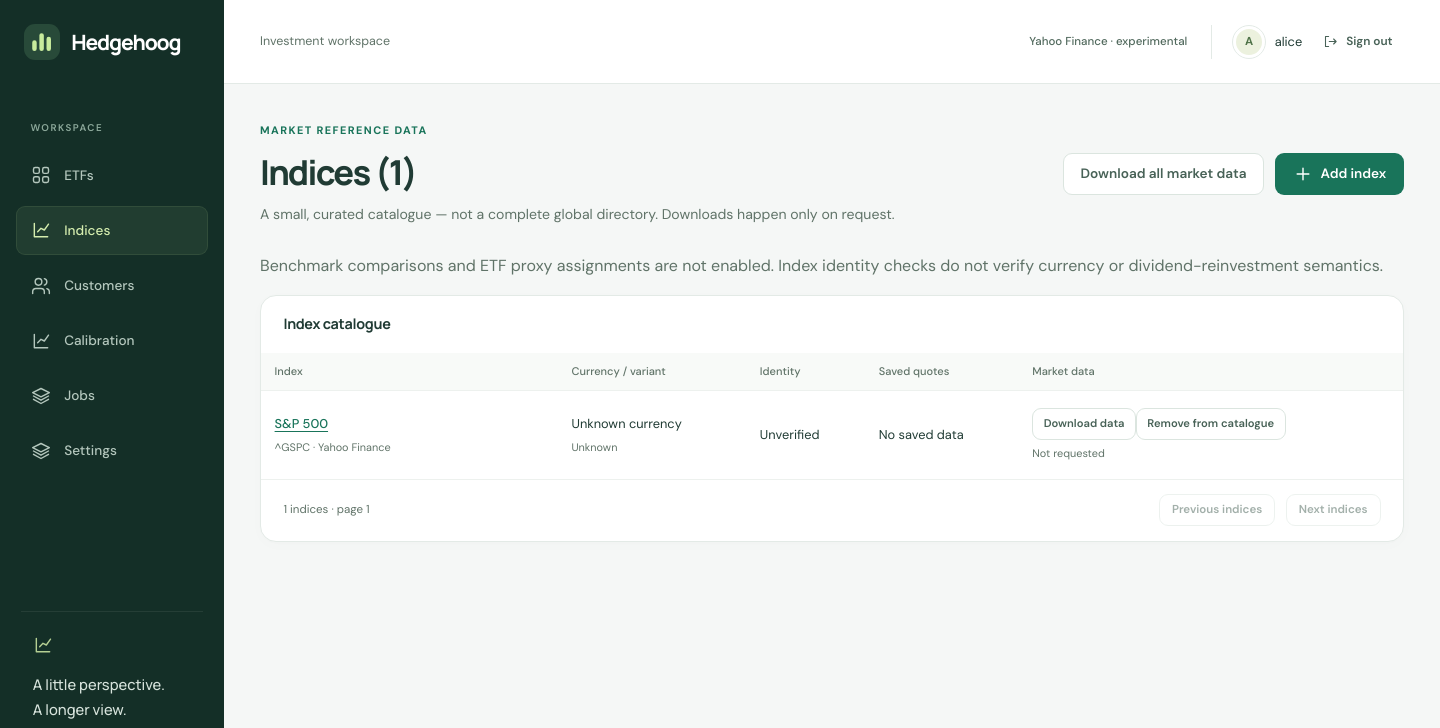
Scenario: ignores stale search responses and clears selection when editing
This screenshot has width=1440, height=728.
Click the button "Add index": {"x": 1339, "y": 174} [1275,153,1404,195]
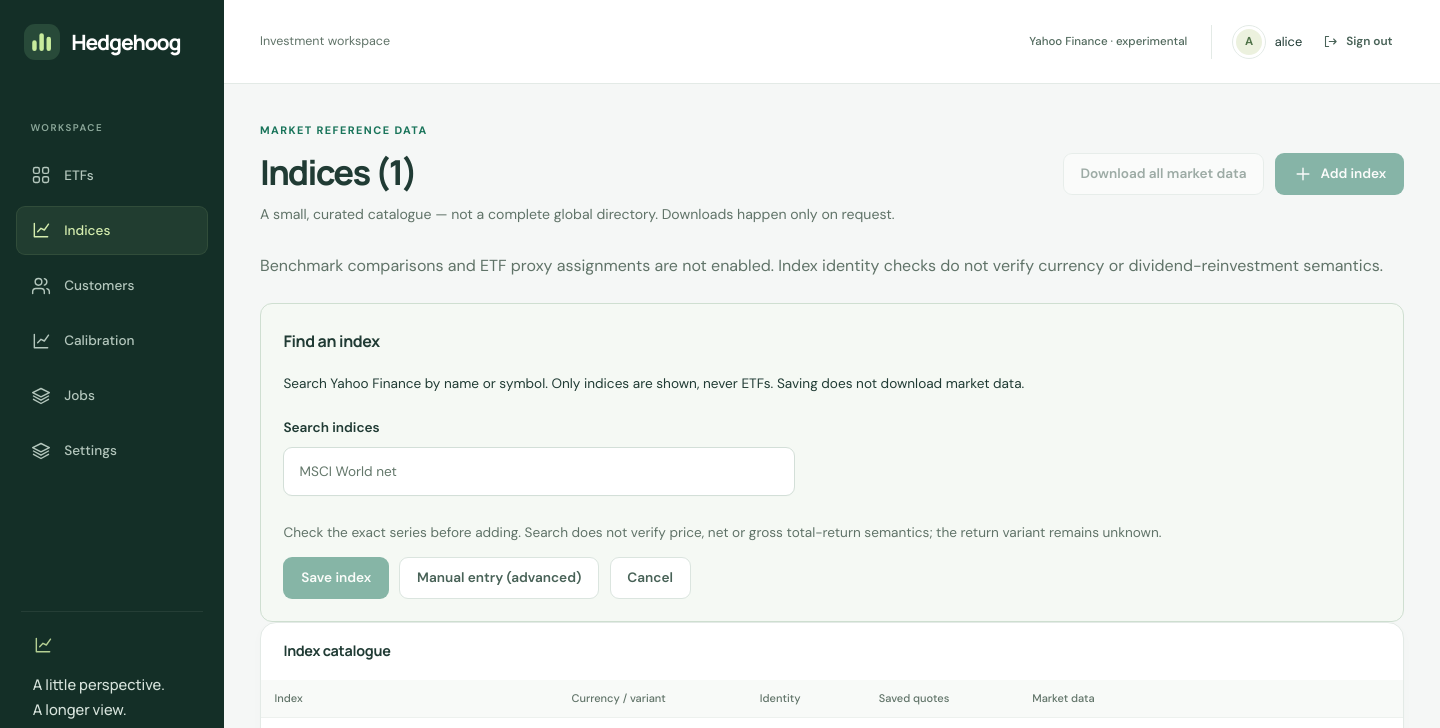
In the dropdown: {"x": 539, "y": 471} [283,447,795,496], type "Old"
Wait 350 ms
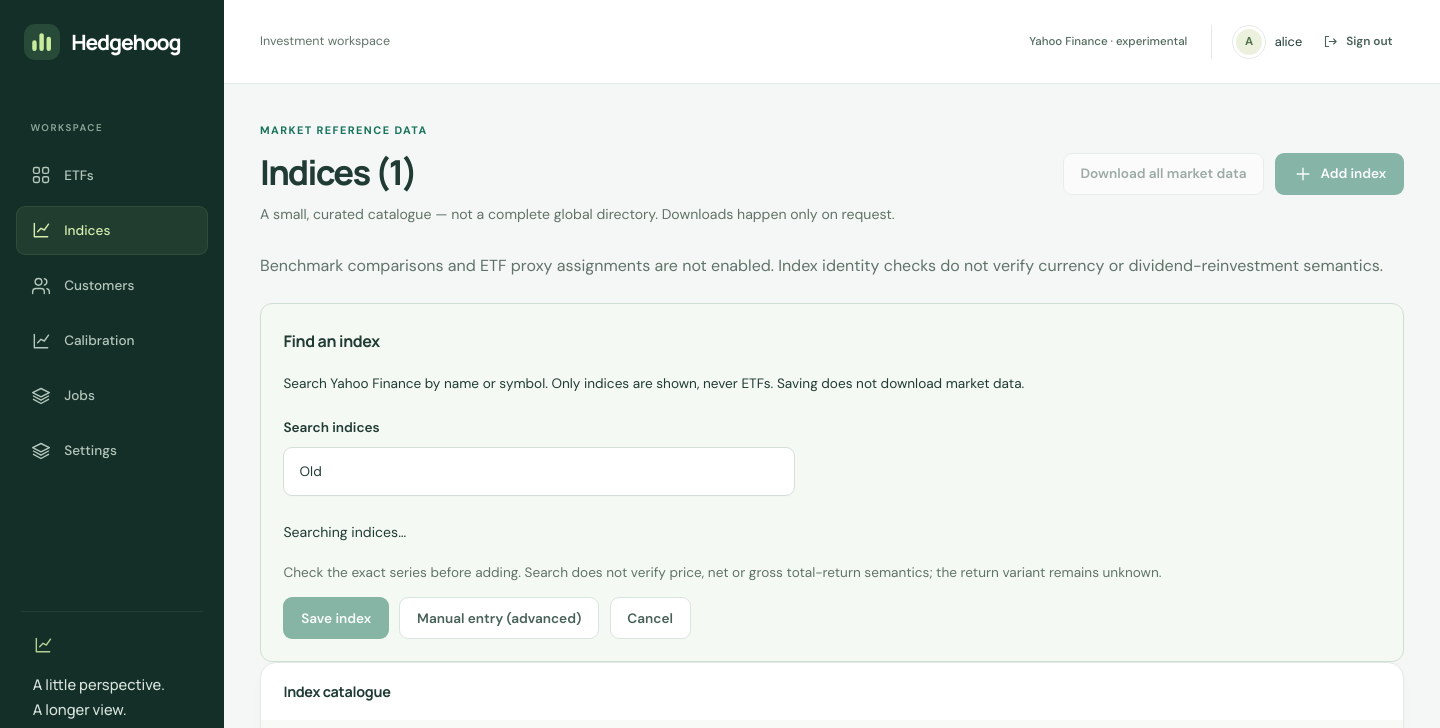
Replace the text in the dropdown with "New": {"x": 539, "y": 471} [283,447,795,496]
Wait 350 ms
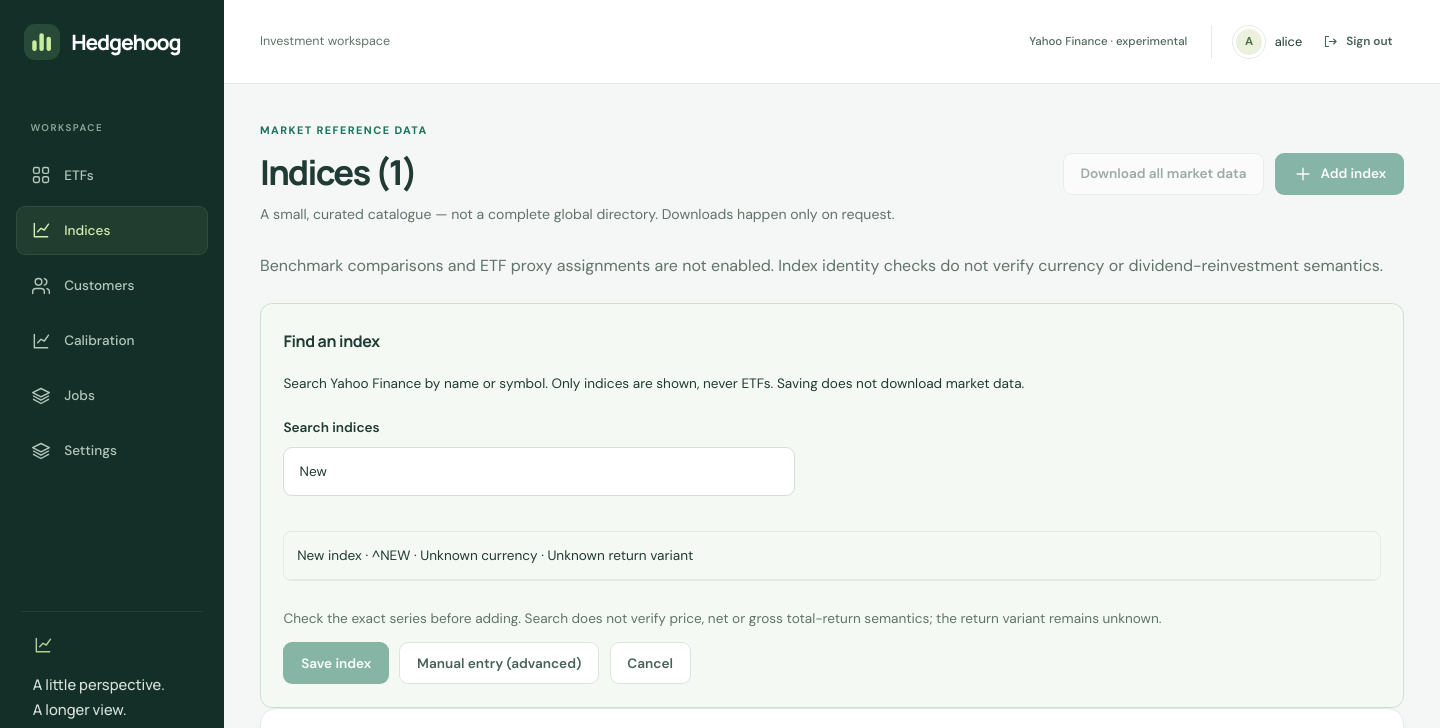
Expected: the option shows "New index"
Click the option "New index · ^NEW · Unknown currency · Unknown return variant": {"x": 329, "y": 555} [284,532,1380,580]
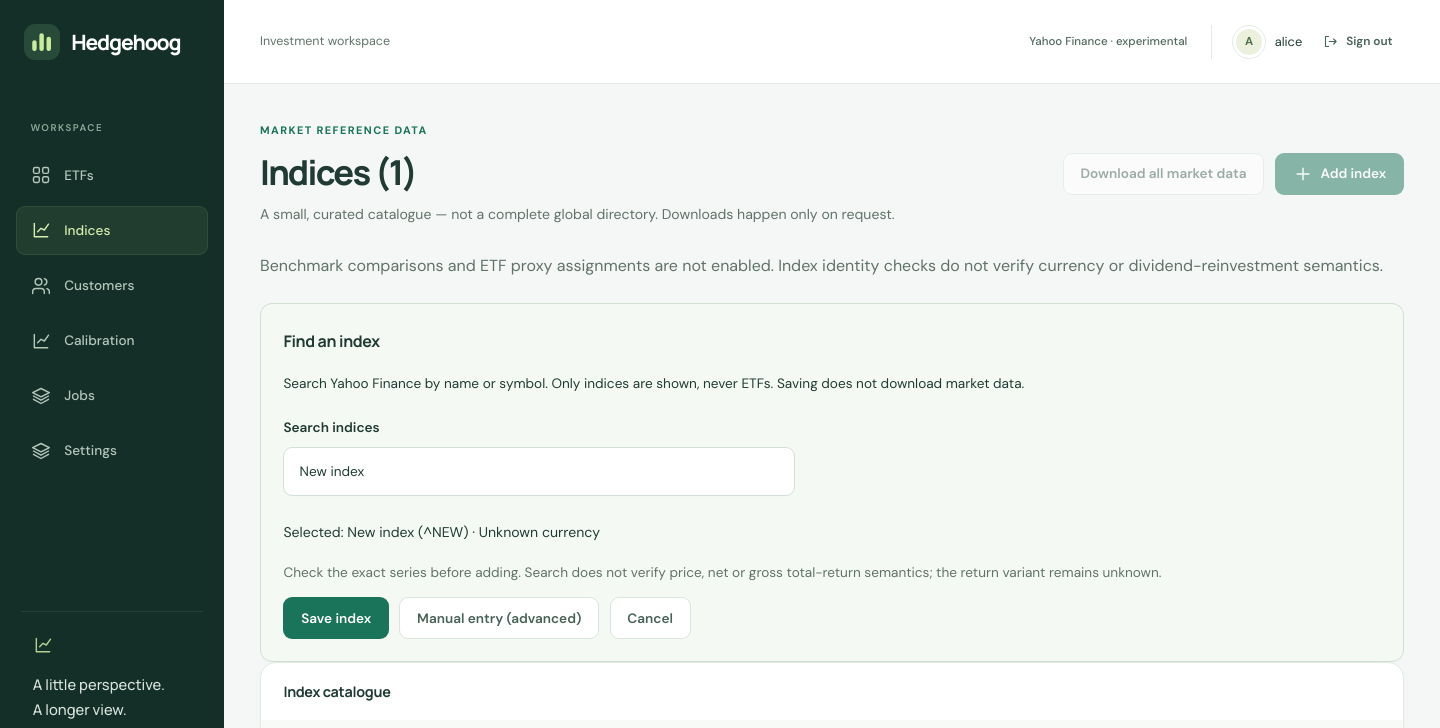
Expected: the button "Save index" is enabled, [283,597,389,639]
Replace the text in the dropdown with "x": {"x": 539, "y": 471} [283,447,795,496]
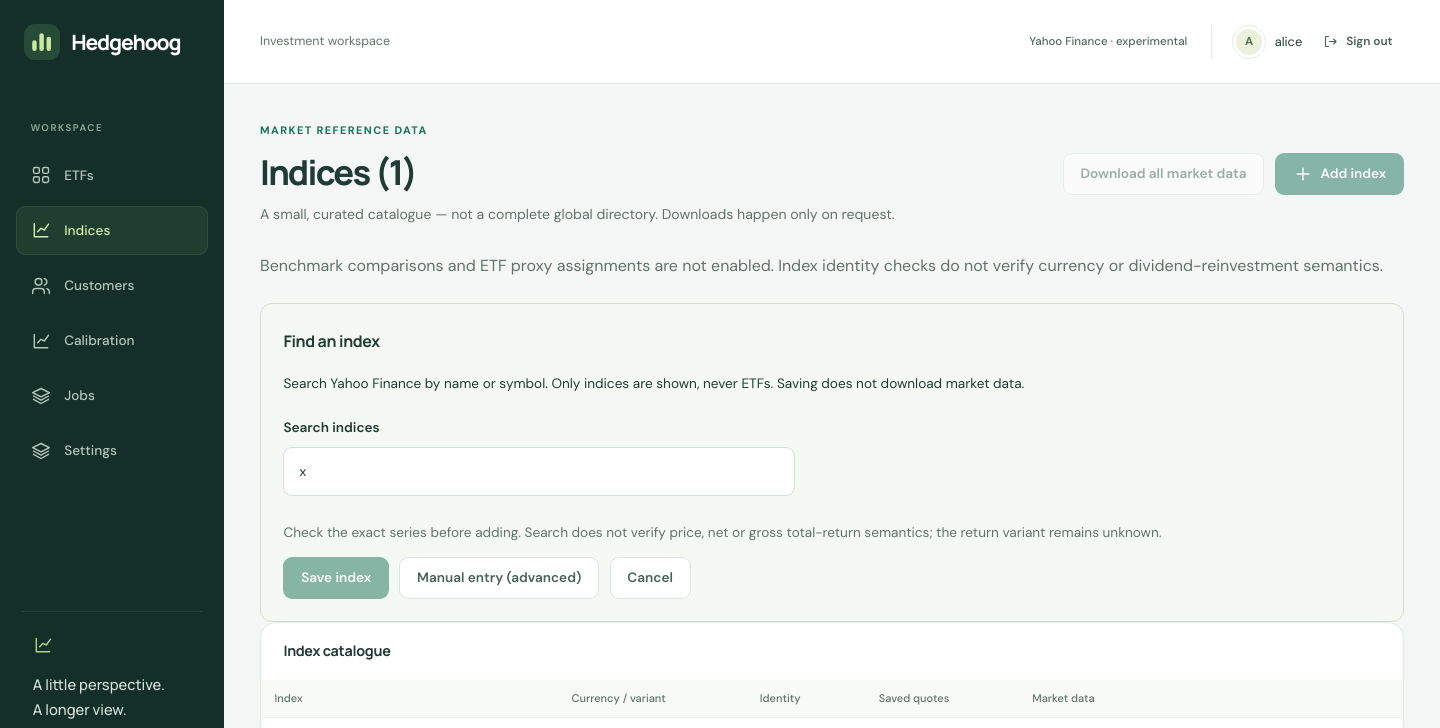
Expected: the button "Save index" is disabled, [283,557,389,599]
